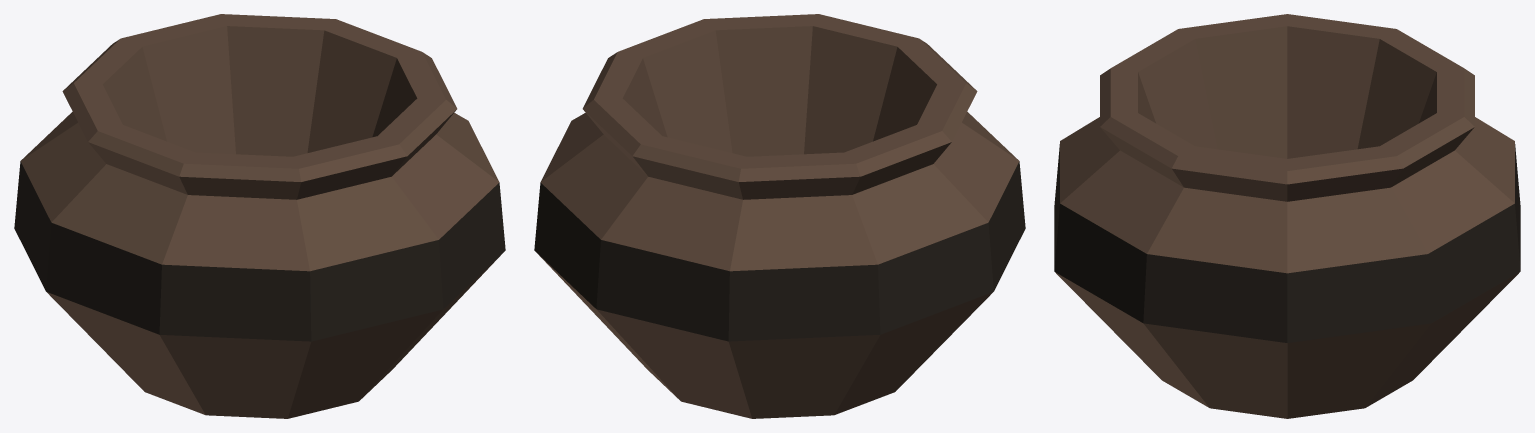
Rendered from Pot_2.fbx.
3 views of the same model, side by side, from view 1: azimuth 30°, elevation 25°; view 2: azimuth 150°, elevation 25°; view 3: azimuth 270°, elevation 25° (orthographic).
Visible parts, largest first — view 1: pCylinder263; view 2: pCylinder263; view 3: pCylinder263.
Part boxes in pixels (bbox=[...]): pCylinder263: bbox=[14, 14, 505, 418]; pCylinder263: bbox=[534, 14, 1025, 418]; pCylinder263: bbox=[1054, 14, 1520, 418].
Size of the model in its own units: 47.37 by 28.84 by 45.05.
